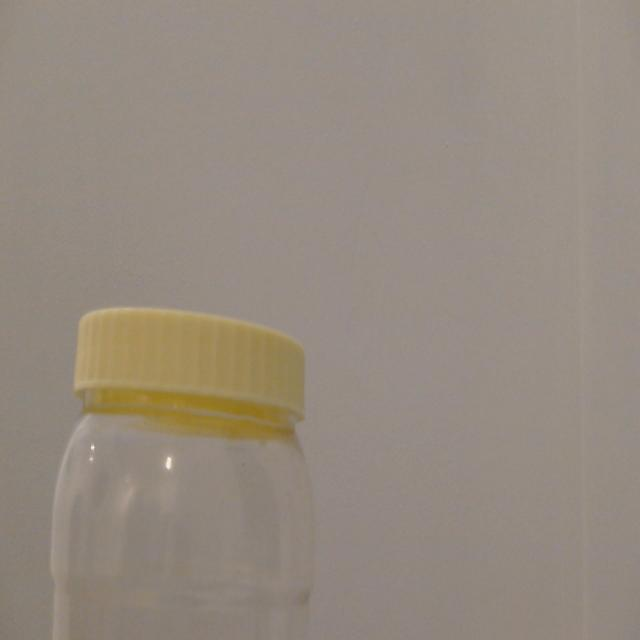cap: (62, 297, 334, 445)
